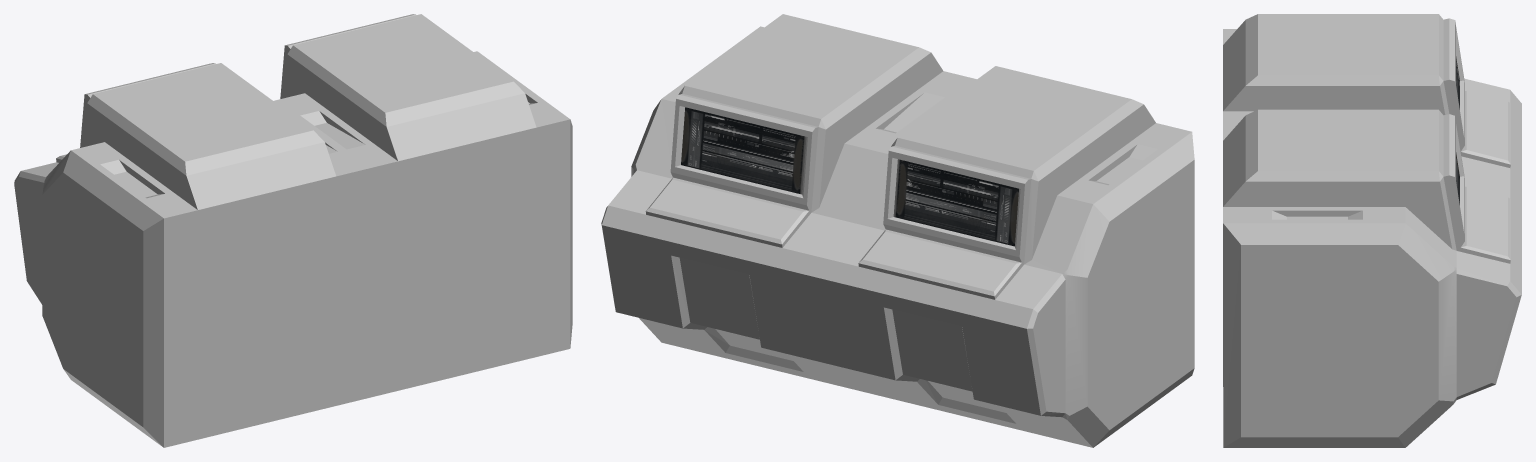
File: panelB.FBX
3 renders of one model, left to right at view 1: azimuth 30°, elevation 25°; view 2: azimuth 150°, elevation 25°; view 3: azimuth 270°, elevation 25°, orthographic. The views are drawn at different scales.
Visible parts, largest first — view 1: CPWide; view 2: CPWide; view 3: CPWide.
Boxes of the visible parts, x1,y1,x2,y2 form: CPWide: (14,14,572,447); CPWide: (601,14,1194,447); CPWide: (1223,14,1521,447).
Size of the model in its own units: 41.81 by 24.54 by 25.72.
